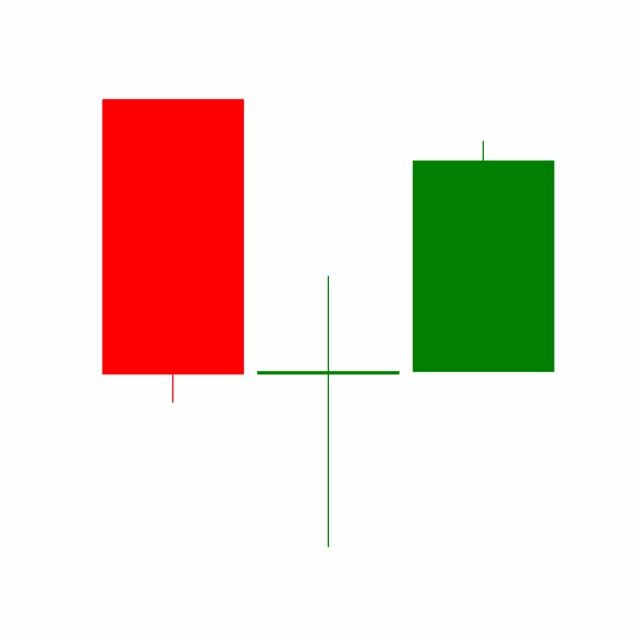Spinning Top: (249, 271, 406, 550)
